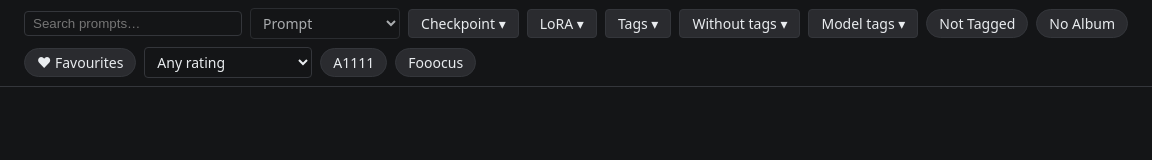
Test: FilterBar › filters untagged images and images in no album
Click the button "Not Tagged" at (977, 24), box x1=926 y1=9 x2=1028 y2=38
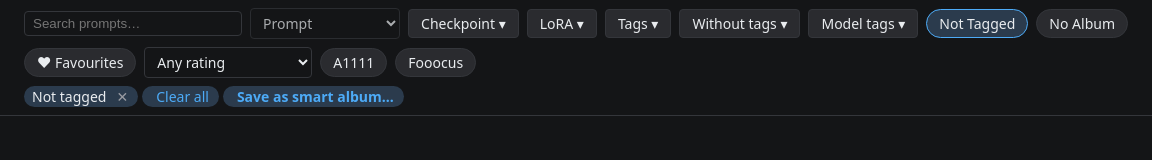
Click the button "No Album" at (1082, 24), box x1=1036 y1=9 x2=1128 y2=38
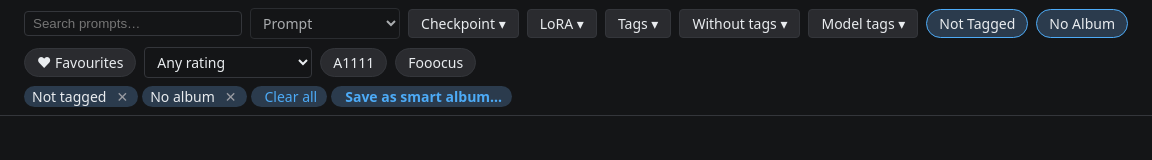
Result: the list named "Active filters" shows "Not tagged" at x1=32 y1=87 x2=106 y2=106
Result: the list named "Active filters" shows "No album" at x1=150 y1=87 x2=215 y2=106
